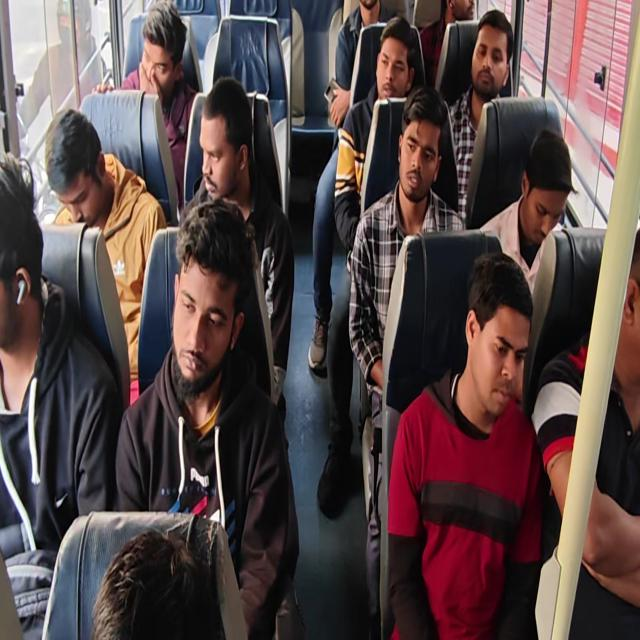person: (1, 1, 638, 638), (114, 200, 301, 638), (348, 84, 465, 637), (386, 251, 546, 638), (0, 152, 122, 638), (531, 225, 639, 638), (179, 75, 295, 430), (308, 13, 417, 378), (46, 108, 167, 406), (91, 0, 199, 212), (478, 127, 578, 297), (91, 529, 224, 639), (448, 9, 514, 222), (17, 0, 108, 132), (327, 0, 404, 130), (419, 0, 475, 88)
